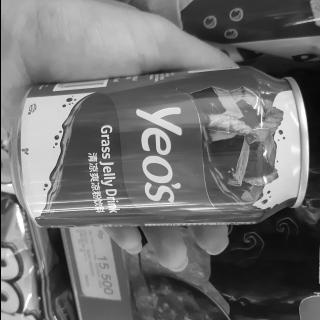alumunium_can: (4, 56, 314, 250)
